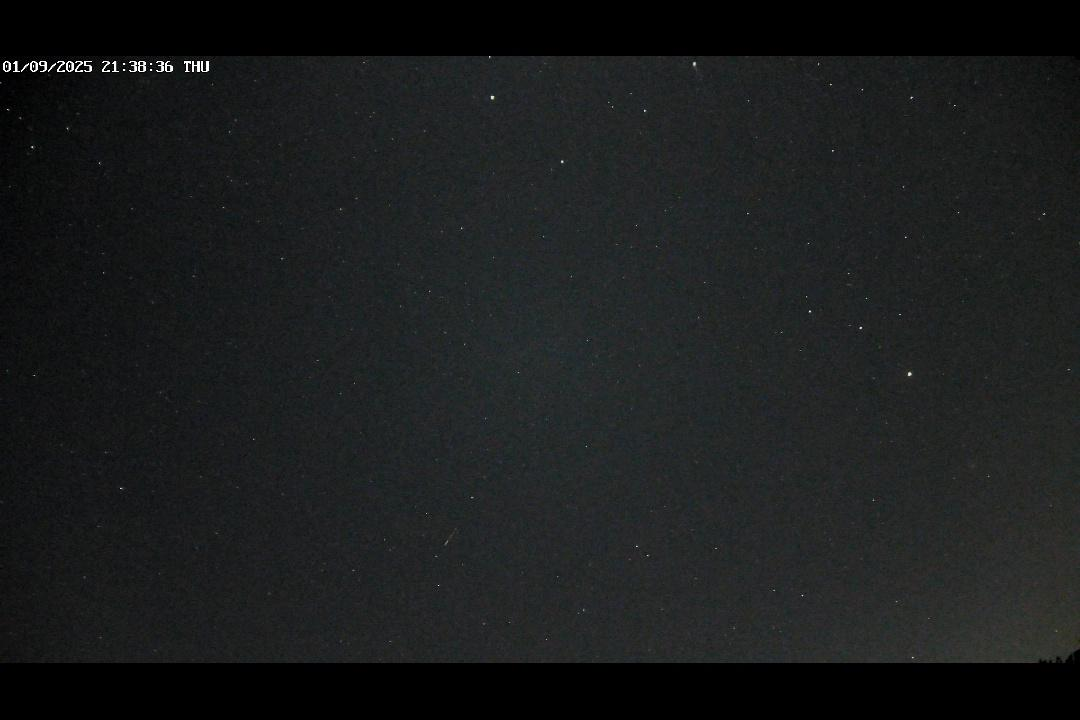Plane: (688, 57, 709, 92)
meteorite: (442, 524, 461, 550)
